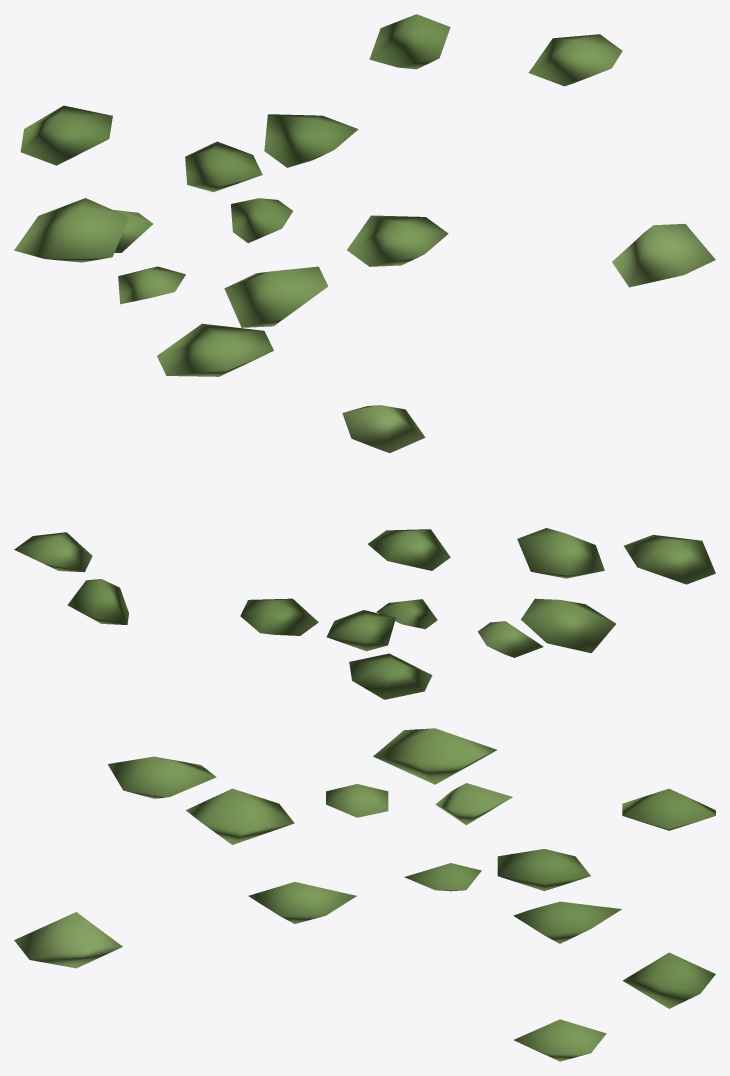
File: canopy-2--1--23.glb
3 views of the same model, one above another, from view 1: azimuth 30°, elevation 25°; view 2: azimuth 150°, elevation 25°; view 3: azimuth 270°, elevation 25° (orthographic). The views are drawn at different scales.
Size of the model in its own units: 122 by 15 by 112.
Materials: 1 (1 with a texture image).
